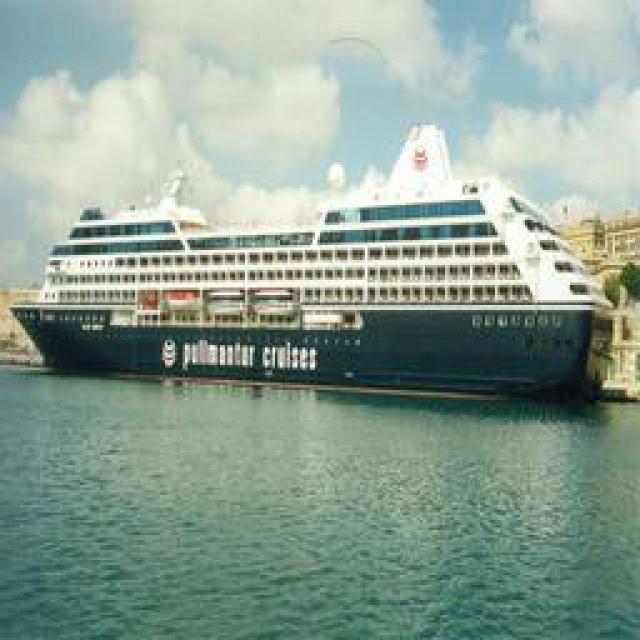Ship: (22, 127, 600, 397)
